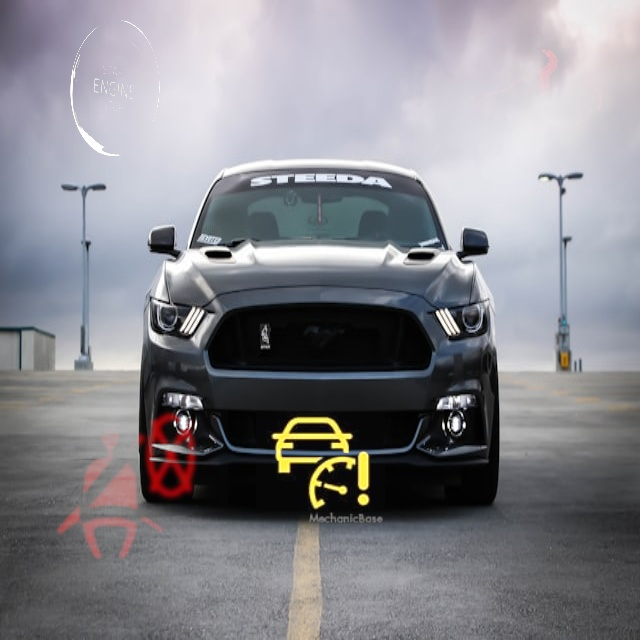symbol: (24, 386, 228, 590), (9, 3, 184, 178), (454, 10, 623, 179), (256, 399, 385, 528)
